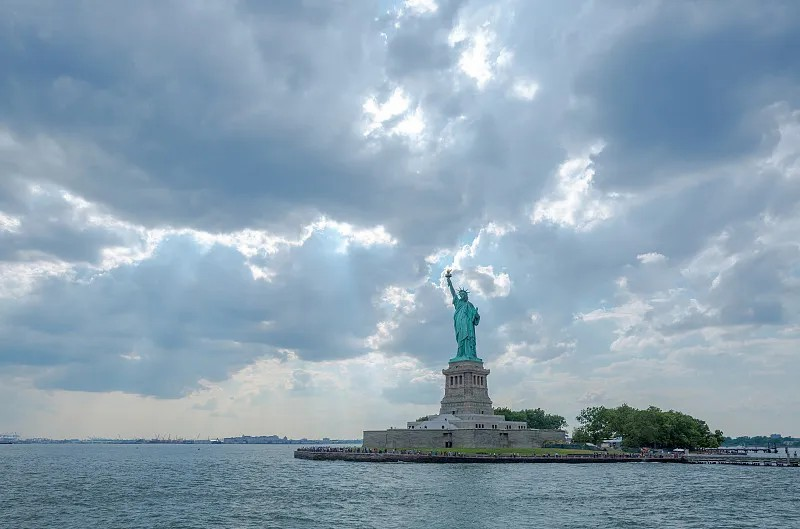SL: (439, 268, 493, 415)
